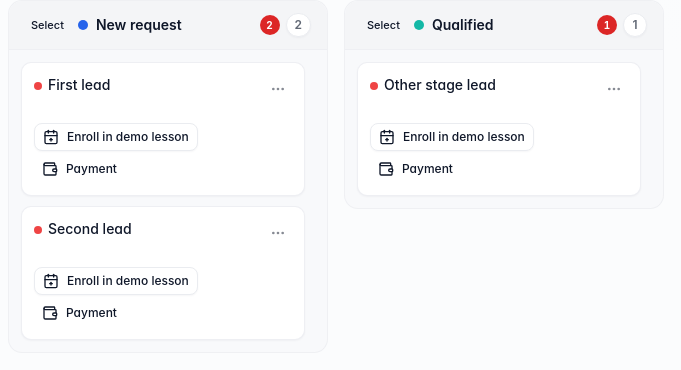
Test: bulk actions on the sales pipeline › opens selection without selecting leads, then selects only the requested stage
What coordinates should you click on to do the following:
click the button with aria-label "Select leads in New request"
I would click on:
 (47, 25)
Its box is 25,13 -> 70,37.
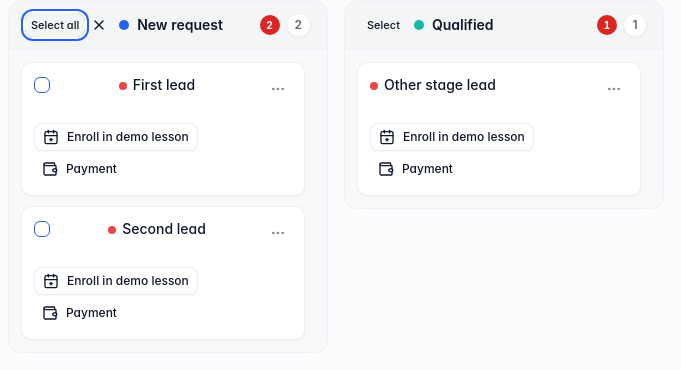
Now the button with aria-label "Select all leads in New request" reads "Select all"
What coordinates should you click on to do the following:
click the button with aria-label "Select all leads in New request"
I would click on:
 (55, 25)
Its box is 25,13 -> 85,37.
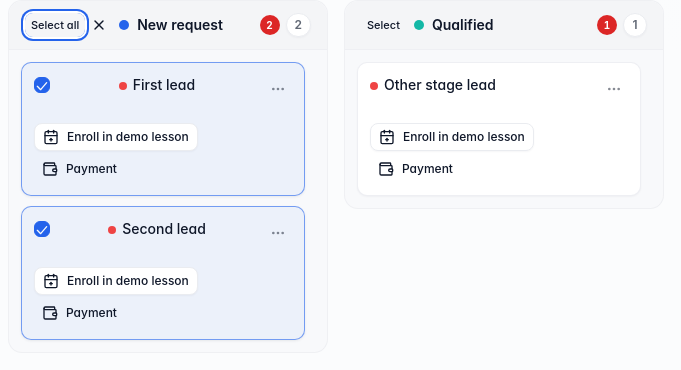
Now the checkbox named "Select lead First lead" has attribute data-state="checked", box 34,77 -> 50,93
Now the checkbox named "Select lead Second lead" has attribute data-state="checked", box 34,221 -> 50,237
What coordinates should you click on to do the following:
click the button named "Cancel"
I would click on:
 (99, 25)
Its box is 87,13 -> 111,37.
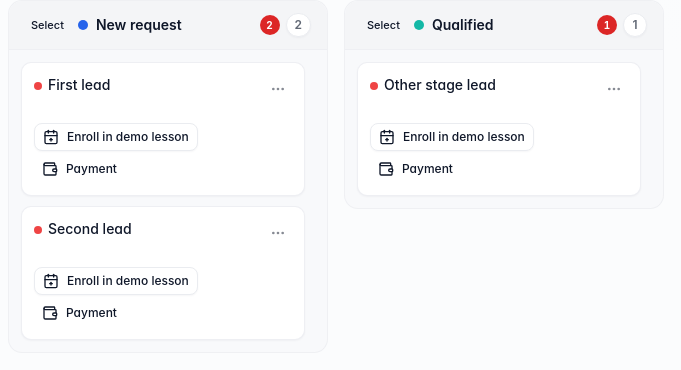
Now the button with aria-label "Select leads in New request" is shown, box 25,13 -> 70,37
